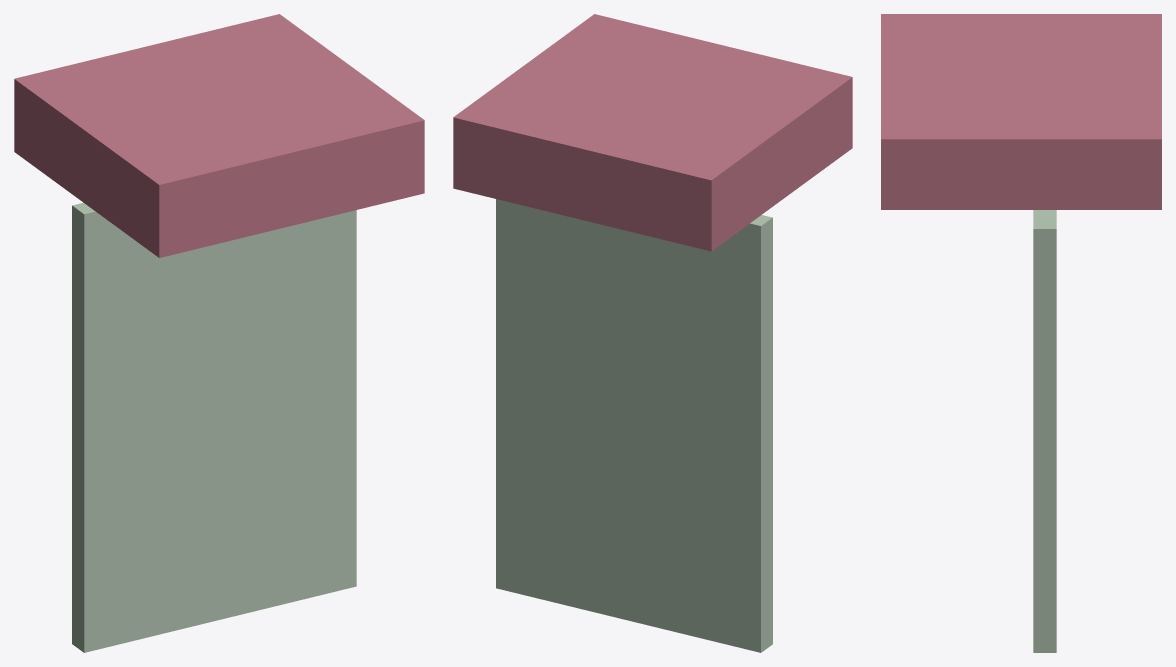
Rendered from 199521_pred.glb.
3 renders of one model, left to right at view 1: azimuth 30°, elevation 25°; view 2: azimuth 150°, elevation 25°; view 3: azimuth 270°, elevation 25°, orthographic. The views are drawn at different scales.
Parts seen in each view (by area): view 1: world; view 2: world; view 3: world.
Part boxes in pixels (<box>): world: <box>14,14,424,652</box>; world: <box>453,14,852,652</box>; world: <box>881,14,1161,652</box>.
Bounding box in the file's own units: 3.95 × 7.2 × 3.6.
